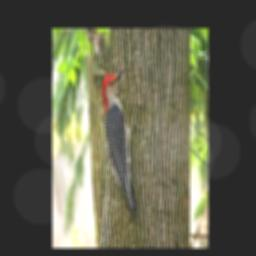Woodpecker: (102, 68, 140, 215)
